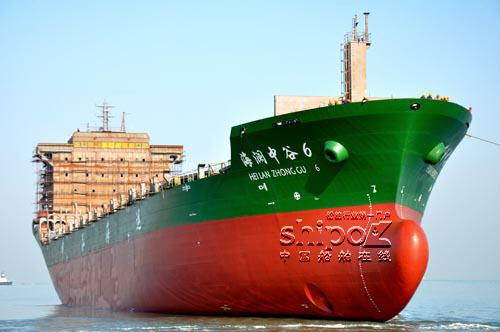Cargoship: (23, 10, 473, 328)
